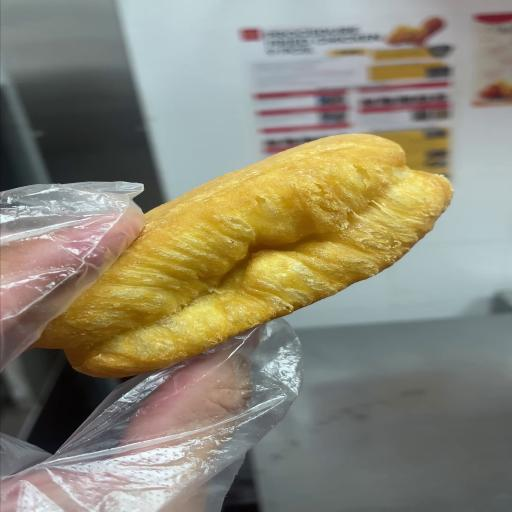brand_golden_good: (37, 134, 451, 377)
